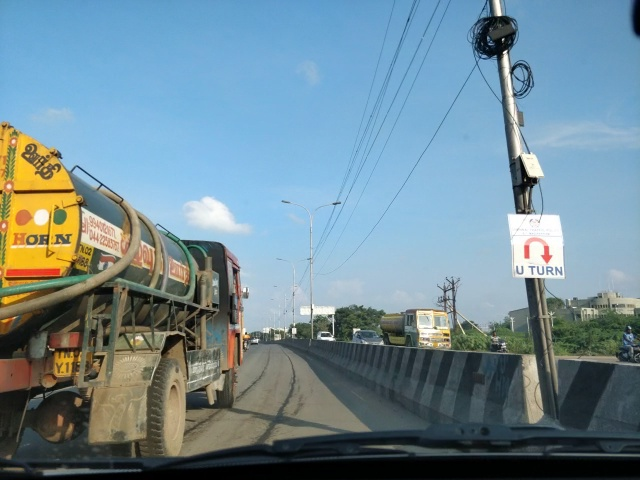car: (349, 326, 382, 347), (313, 328, 340, 342), (251, 334, 260, 345)
motorbike: (613, 322, 636, 364), (485, 328, 507, 353)
truck: (2, 118, 245, 468), (374, 307, 455, 354)
